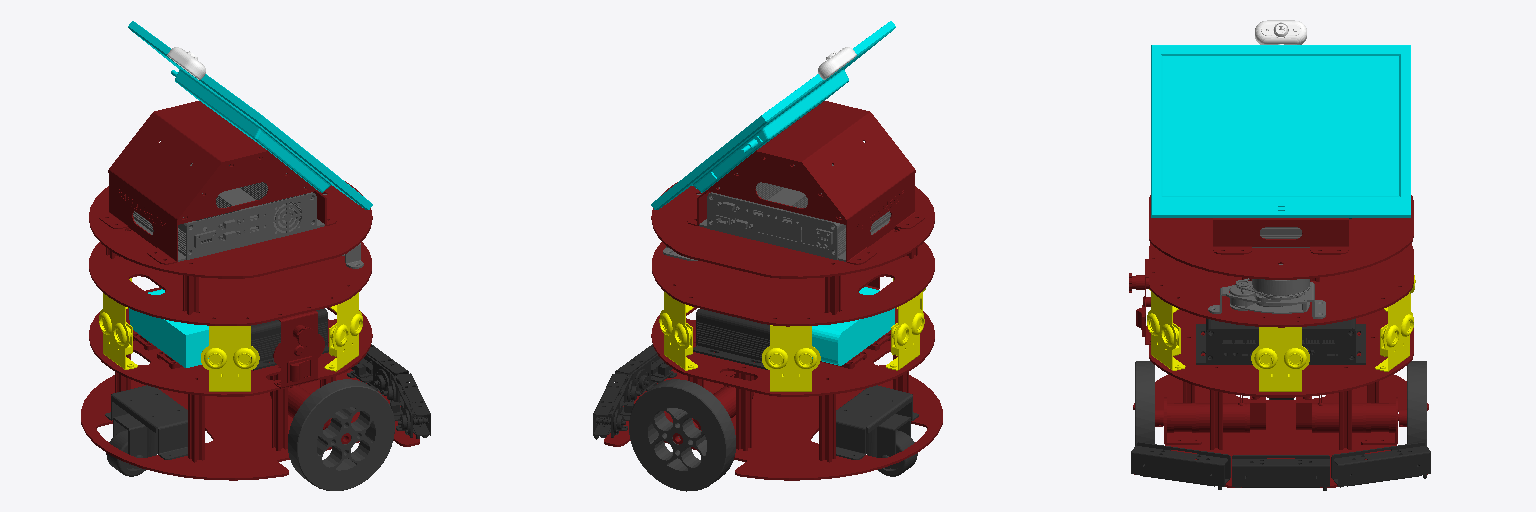
--- Render facts (derived) ---
3 views of the same robot in one strip: view 1: azimuth 30°, elevation 25°; view 2: azimuth 150°, elevation 25°; view 3: azimuth 270°, elevation 25° (orthographic).
Robot: bobac2_description — 24 links, 23 joints (4 continuous, 19 fixed); root link base_footprint; default pose: every joint at zero.
Visible links, largest first — view 1: base_link, right_wheel_Link, IPC_Link, screen_Link, universal_wheel_bracket_Link, ult3_Link, battery_Link, right_crash_Link, ult2_Link, ult4_Link, middle_crash_Link, control_box_Link (+3 smaller); view 2: base_link, left_wheel_Link, IPC_Link, screen_Link, universal_wheel_bracket_Link, control_box_Link, ult5_Link, battery_Link, left_crash_Link, ult6_Link, ult4_Link, middle_crash_Link (+3 smaller); view 3: base_link, screen_Link, control_box_Link, right_crash_Link, left_crash_Link, middle_crash_Link, laser_rada_Link, ult1_Link, ult2_Link, ult6_Link, left_wheel_Link, right_wheel_Link (+2 smaller).
Boxes of the visible links, x1=… form: base_link: x1=81, y1=101, x2=419, y2=480; right_wheel_Link: x1=288, y1=379, x2=394, y2=490; IPC_Link: x1=133, y1=163, x2=324, y2=261; screen_Link: x1=128, y1=21, x2=372, y2=209; universal_wheel_bracket_Link: x1=105, y1=385, x2=187, y2=459; ult3_Link: x1=201, y1=326, x2=259, y2=391; battery_Link: x1=129, y1=289, x2=208, y2=367; right_crash_Link: x1=383, y1=373, x2=430, y2=438; ult2_Link: x1=324, y1=292, x2=362, y2=371; ult4_Link: x1=99, y1=293, x2=137, y2=369; middle_crash_Link: x1=347, y1=344, x2=408, y2=394; control_box_Link: x1=251, y1=308, x2=328, y2=370; base_link: x1=604, y1=101, x2=942, y2=480; left_wheel_Link: x1=629, y1=379, x2=735, y2=491; IPC_Link: x1=699, y1=164, x2=890, y2=261; screen_Link: x1=651, y1=21, x2=895, y2=209; universal_wheel_bracket_Link: x1=836, y1=385, x2=918, y2=459; control_box_Link: x1=693, y1=309, x2=769, y2=369; ult5_Link: x1=762, y1=325, x2=820, y2=391; battery_Link: x1=812, y1=287, x2=894, y2=365; left_crash_Link: x1=593, y1=374, x2=640, y2=439; ult6_Link: x1=659, y1=292, x2=697, y2=370; ult4_Link: x1=886, y1=294, x2=924, y2=370; middle_crash_Link: x1=615, y1=344, x2=676, y2=394; base_link: x1=1129, y1=195, x2=1428, y2=487; screen_Link: x1=1151, y1=45, x2=1410, y2=217; control_box_Link: x1=1196, y1=318, x2=1365, y2=364; right_crash_Link: x1=1131, y1=442, x2=1230, y2=489; left_crash_Link: x1=1331, y1=442, x2=1430, y2=487; middle_crash_Link: x1=1232, y1=455, x2=1329, y2=490; laser_rada_Link: x1=1208, y1=264, x2=1325, y2=318; ult1_Link: x1=1251, y1=327, x2=1309, y2=391; ult2_Link: x1=1147, y1=291, x2=1185, y2=370; ult6_Link: x1=1375, y1=292, x2=1413, y2=371; left_wheel_Link: x1=1407, y1=361, x2=1426, y2=445; right_wheel_Link: x1=1135, y1=361, x2=1154, y2=445.
Bounding box of the posed robot: 0.3913 × 0.3629 × 0.5361 m (x, y, z).
Meshes: 22 distinct files referenced, 21 mesh visuals loaded (21 binary STL); not drawn: 1 (reference not matched to a file when rendering).

URDF robot description (bobac2_description):
<robot
  name="bobac2_description">

  <link name="base_footprint">
    <visual>
      <geometry>
        <box size="0.001 0.001 0.001"/>
     	  </geometry>
	    <origin rpy="0 0 0" xyz="0 0 0.16575"/>
    </visual>
    <inertial>
      <mass value="0.0001" />
        <inertia ixx="1.0E-10" ixy="0.0" ixz="0.0"
                 iyy="1.0E-10" iyz="0.0"
                 izz="1.0E-10" />
        </inertial>
  </link>

  <joint name="base_footprint_joint" type="fixed">
    <origin xyz="0 0 0.16575" />
      <parent link="base_footprint" />
        <child link="base_link" />
  </joint>


  <link
    name="base_link">
    <inertial>
      <origin
        xyz="0.0176984736856291 -0.00244021237194778 0.0154147582080695"
        rpy="0 0 0" />
      <mass
        value="0.001" />
      <inertia
        ixx="0.0334350159358739"
        ixy="-7.36145654595537E-05"
        ixz="0.00399635162520499"
        iyy="0.031161816239251"
        iyz="0.000145992979543746"
        izz="0.0234882250069953" />
    </inertial>
    <visual>
      <origin
        xyz="0 0 0"
        rpy="0 0 0" />
      <geometry>
        <mesh
          filename="package://bobac2_description/meshes/base_link.STL" />
      </geometry>
      <material
        name="">
        <color
          rgba="0.5 0.12 0.13 1" />
      </material>
    </visual>
    <collision>
      <origin
        xyz="0 0 0"
        rpy="0 0 0" />
      <geometry>
        <mesh
          filename="package://bobac2_description/meshes/base_link.STL" />
      </geometry>
    </collision>
  </link>
  <link
    name="left_wheel_Link">
    <inertial>
      <origin
        xyz="0.000187738776794025 2.27799696567166E-05 0.000104915722079227"
        rpy="0 0 0" />
      <mass
        value="10" />
      <inertia
        ixx="0.000373831677394111"
        ixy="1.10646247745684E-09"
        ixz="3.94610908511871E-07"
        iyy="0.00072344628711892"
        iyz="6.18334218221144E-10"
        izz="0.000374260455949215" />
    </inertial>
    <visual>
      <origin
        xyz="0 0 0"
        rpy="0 0 0" />
      <geometry>
        <mesh
          filename="package://bobac2_description/meshes/left_wheel_Link.STL" />
      </geometry>
      <material
        name="">
        <color
          rgba="0.29 0.29 0.29 1" />
      </material>
    </visual>
    <collision>
      <origin
        xyz="0 0 0"
        rpy="0 0 0" />
      <geometry>
        <mesh
          filename="package://bobac2_description/meshes/left_wheel_Link.STL" />
      </geometry>
    </collision>
  </link>
  <joint
    name="left_wheel_Joint"
    type="continuous">
    <origin
      xyz="0.059 0.162869999999998 -0.0809999999999997"
      rpy="-6.12303176911189E-17 0 0" />
    <parent
      link="base_link" />
    <child
      link="left_wheel_Link" />
    <axis
      xyz="0 1 0" />
  </joint>
  <link
    name="right_wheel_Link">
    <inertial>
      <origin
        xyz="0.000104915722079241 -2.27799696567443E-05 0.000187738776793983"
        rpy="0 0 0" />
      <mass
        value="10" />
      <inertia
        ixx="0.000374260455949215"
        ixy="-6.18334218208078E-10"
        ixz="3.94610908512163E-07"
        iyy="0.00072344628711892"
        iyz="-1.10646247743939E-09"
        izz="0.000373831677394111" />
    </inertial>
    <visual>
      <origin
        xyz="0 0 0"
        rpy="0 0 0" />
      <geometry>
        <mesh
          filename="package://bobac2_description/meshes/right_wheel_Link.STL" />
      </geometry>
      <material
        name="">
        <color
          rgba="0.29 0.29 0.29 1" />
      </material>
    </visual>
    <collision>
      <origin
        xyz="0 0 0"
        rpy="0 0 0" />
      <geometry>
        <mesh
          filename="package://bobac2_description/meshes/right_wheel_Link.STL" />
      </geometry>
    </collision>
  </link>
  <joint
    name="right_wheel_Joint"
    type="continuous">
    <origin
      xyz="0.0589999999999999 -0.162870230062147 -0.0809999999999994"
      rpy="-6.12303176911189E-17 0 0" />
    <parent
      link="base_link" />
    <child
      link="right_wheel_Link" />
    <axis
      xyz="0 1 0" />
  </joint>
  <link
    name="ult1_Link">
    <inertial>
      <origin
        xyz="-0.00414742898874126 6.82855136189154E-06 -0.00438502040194252"
        rpy="0 0 0" />
      <mass
        value="0.001" />
      <inertia
        ixx="1.77535070730389E-05"
        ixy="1.09142764249358E-09"
        ixz="-2.19926889304616E-07"
        iyy="1.13252586353444E-05"
        iyz="-7.32159566906318E-10"
        izz="7.51538320265679E-06" />
    </inertial>
    <visual>
      <origin
        xyz="0 0 0"
        rpy="0 0 0" />
      <geometry>
        <mesh
          filename="package://bobac2_description/meshes/ult1_Link.STL" />
      </geometry>
      <material
        name="">
        <color
          rgba="1 1 0 1" />
      </material>
    </visual>
    <collision>
      <origin
        xyz="0 0 0"
        rpy="0 0 0" />
      <geometry>
        <mesh
          filename="package://bobac2_description/meshes/ult1_Link.STL" />
      </geometry>
    </collision>
  </link>
  <joint
    name="ult1_Joint"
    type="fixed">
    <origin
      xyz="0.161036475920901 -0.00055454043235868 0.0450000000000007"
      rpy="-6.12303176911189E-17 0 0" />
    <parent
      link="base_link" />
    <child
      link="ult1_Link" />
    <axis
      xyz="0 0 0" />
  </joint>
  <link
    name="ult2_Link">
    <inertial>
      <origin
        xyz="-0.00414742898874126 6.82855136185934E-06 -0.00438502040194252"
        rpy="0 0 0" />
      <mass
        value="0.001" />
      <inertia
        ixx="1.77535070730389E-05"
        ixy="1.09142764249631E-09"
        ixz="-2.19926889304611E-07"
        iyy="1.13252586353444E-05"
        iyz="-7.32159566909851E-10"
        izz="7.51538320265679E-06" />
    </inertial>
    <visual>
      <origin
        xyz="0 0 0"
        rpy="0 0 0" />
      <geometry>
        <mesh
          filename="package://bobac2_description/meshes/ult2_Link.STL" />
      </geometry>
      <material
        name="">
        <color
          rgba="1 1 0 1" />
      </material>
    </visual>
    <collision>
      <origin
        xyz="0 0 0"
        rpy="0 0 0" />
      <geometry>
        <mesh
          filename="package://bobac2_description/meshes/ult2_Link.STL" />
      </geometry>
    </collision>
  </link>
  <joint
    name="ult2_Joint"
    type="fixed">
    <origin
      xyz="0.0796102415563129 -0.143139258755043 0.0450000000000008"
      rpy="-3.06151588455595E-17 -5.30270106023007E-17 -1.0471975511966" />
    <parent
      link="base_link" />
    <child
      link="ult2_Link" />
    <axis
      xyz="0 0 0" />
  </joint>
  <link
    name="ult3_Link">
    <inertial>
      <origin
        xyz="-0.00414742898874132 6.82855136184546E-06 -0.00438502040194253"
        rpy="0 0 0" />
      <mass
        value="0.001" />
      <inertia
        ixx="1.77535070730388E-05"
        ixy="1.09142764249377E-09"
        ixz="-2.19926889304615E-07"
        iyy="1.13252586353444E-05"
        iyz="-7.32159566904385E-10"
        izz="7.51538320265676E-06" />
    </inertial>
    <visual>
      <origin
        xyz="0 0 0"
        rpy="0 0 0" />
      <geometry>
        <mesh
          filename="package://bobac2_description/meshes/ult3_Link.STL" />
      </geometry>
      <material
        name="">
        <color
          rgba="1 1 0 1" />
      </material>
    </visual>
    <collision>
      <origin
        xyz="0 0 0"
        rpy="0 0 0" />
      <geometry>
        <mesh
          filename="package://bobac2_description/meshes/ult3_Link.STL" />
      </geometry>
    </collision>
  </link>
  <joint
    name="ult3_Joint"
    type="fixed">
    <origin
      xyz="-0.0825156701834676 -0.141461808755045 0.0450000000000007"
      rpy="3.06151588455591E-17 -5.30270106023009E-17 -2.09439510239319" />
    <parent
      link="base_link" />
    <child
      link="ult3_Link" />
    <axis
      xyz="0 0 0" />
  </joint>
  <link
    name="ult4_Link">
    <inertial>
      <origin
        xyz="-0.00414742898874126 6.82855136188807E-06 -0.00438502040194251"
        rpy="0 0 0" />
      <mass
        value="0.001" />
      <inertia
        ixx="1.77535070730389E-05"
        ixy="1.0914276424907E-09"
        ixz="-2.19926889304616E-07"
        iyy="1.13252586353444E-05"
        iyz="-7.32159566912778E-10"
        izz="7.51538320265679E-06" />
    </inertial>
    <visual>
      <origin
        xyz="0 0 0"
        rpy="0 0 0" />
      <geometry>
        <mesh
          filename="package://bobac2_description/meshes/ult4_Link.STL" />
      </geometry>
      <material
        name="">
        <color
          rgba="1 1 0 1" />
      </material>
    </visual>
    <collision>
      <origin
        xyz="0 0 0"
        rpy="0 0 0" />
      <geometry>
        <mesh
          filename="package://bobac2_description/meshes/ult4_Link.STL" />
      </geometry>
    </collision>
  </link>
  <joint
    name="ult4_Joint"
    type="fixed">
    <origin
      xyz="-0.160937935521329 0.00056375956763879 0.0450000000000008"
      rpy="6.12303176911189E-17 0 3.14159265358979" />
    <parent
      link="base_link" />
    <child
      link="ult4_Link" />
    <axis
      xyz="0 0 0" />
  </joint>
  <link
    name="ult5_Link">
    <inertial>
      <origin
        xyz="-0.00414742898874129 6.82855136185934E-06 -0.00438502040194252"
        rpy="0 0 0" />
      <mass
        value="0.001" />
      <inertia
        ixx="1.77535070730389E-05"
        ixy="1.09142764249716E-09"
        ixz="-2.19926889304613E-07"
        iyy="1.13252586353444E-05"
        iyz="-7.32159566911823E-10"
        izz="7.51538320265677E-06" />
    </inertial>
    <visual>
      <origin
        xyz="0 0 0"
        rpy="0 0 0" />
      <geometry>
        <mesh
          filename="package://bobac2_description/meshes/ult5_Link.STL" />
      </geometry>
      <material
        name="">
        <color
          rgba="1 1 0 1" />
      </material>
    </visual>
    <collision>
      <origin
        xyz="0 0 0"
        rpy="0 0 0" />
      <geometry>
        <mesh
          filename="package://bobac2_description/meshes/ult5_Link.STL" />
      </geometry>
    </collision>
  </link>
  <joint
    name="ult5_Joint"
    type="fixed">
    <origin
      xyz="-0.0796102415563151 0.143139258755043 0.0450000000000007"
      rpy="3.06151588455595E-17 5.30270106023006E-17 2.0943951023932" />
    <parent
      link="base_link" />
    <child
      link="ult5_Link" />
    <axis
      xyz="0 0 0" />
  </joint>
  <link
    name="ult6_Link">
    <inertial>
      <origin
        xyz="-0.00414742898874126 6.82855136187321E-06 -0.00438502040194252"
        rpy="0 0 0" />
      <mass
        value="0.001" />
      <inertia
        ixx="1.77535070730389E-05"
        ixy="1.0914276424908E-09"
        ixz="-2.19926889304616E-07"
        iyy="1.13252586353444E-05"
        iyz="-7.321595669078E-10"
        izz="7.51538320265678E-06" />
    </inertial>
    <visual>
      <origin
        xyz="0 0 0"
        rpy="0 0 0" />
      <geometry>
        <mesh
          filename="package://bobac2_description/meshes/ult6_Link.STL" />
      </geometry>
      <material
        name="">
        <color
          rgba="1 1 0 1" />
      </material>
    </visual>
    <collision>
      <origin
        xyz="0 0 0"
        rpy="0 0 0" />
      <geometry>
        <mesh
          filename="package://bobac2_description/meshes/ult6_Link.STL" />
      </geometry>
    </collision>
  </link>
  <joint
    name="ult6_Joint"
    type="fixed">
    <origin
      xyz="0.082515670183469 0.141461808755047 0.0450000000000007"
      rpy="-3.06151588455591E-17 5.30270106023009E-17 1.0471975511966" />
    <parent
      link="base_link" />
    <child
      link="ult6_Link" />
    <axis
      xyz="0 0 0" />
  </joint>
  <link
    name="screen_Link">
    <inertial>
      <origin
        xyz="-0.00930826314117272 0.000220505445777179 -0.00733047519436178"
        rpy="0 0 0" />
      <mass
        value="0.001" />
      <inertia
        ixx="0.00996841164107054"
        ixy="1.82016646767447E-06"
        ixz="-4.85112975934549E-05"
        iyy="0.00339958653515132"
        iyz="-4.56066805391674E-06"
        izz="0.00667917473822529" />
    </inertial>
    <visual>
      <origin
        xyz="0 0 0"
        rpy="0 0 0" />
      <geometry>
        <mesh
          filename="package://bobac2_description/meshes/screen_Link.STL" />
      </geometry>
      <material
        name="">
        <color
          rgba="0 0.92 0.94 1" />
      </material>
    </visual>
    <collision>
      <origin
        xyz="0 0 0"
        rpy="0 0 0" />
      <geometry>
        <mesh
          filename="package://bobac2_description/meshes/screen_Link.STL" />
      </geometry>
    </collision>
  </link>
  <joint
    name="screen_Joint"
    type="fixed">
    <origin
      xyz="0.0295730580787732 0 0.28512473814545"
      rpy="-8.65927457071926E-17 -0.785398163397438 6.12303176911176E-17" />
    <parent
      link="base_link" />
    <child
      link="screen_Link" />
    <axis
      xyz="0 0 0" />
  </joint>
  <link
    name="monocular_camera_Link">
    <inertial>
      <origin
        xyz="0.00117676930382202 -0.000116627151779461 -0.000140554036882512"
        rpy="0 0 0" />
      <mass
        value="0.001" />
      <inertia
        ixx="9.02372585847254E-06"
        ixy="-1.26364197897344E-09"
        ixz="-1.08147027028177E-08"
        iyy="2.37546671460094E-06"
        iyz="-3.41212699045368E-11"
        izz="7.94280946232793E-06" />
    </inertial>
    <visual>
      <origin
        xyz="0 0 0"
        rpy="0 0 0" />
      <geometry>
        <mesh
          filename="package://bobac2_description/meshes/monocular_camera_Link.STL" />
      </geometry>
      <material
        name="">
        <color
          rgba="1 1 1 1" />
      </material>
    </visual>
    <collision>
      <origin
        xyz="0 0 0"
        rpy="0 0 0" />
      <geometry>
        <mesh
          filename="package://bobac2_description/meshes/monocular_camera_Link.STL" />
      </geometry>
    </collision>
  </link>
  <joint
    name="monocular_camera_Joint"
    type="fixed">
    <origin
      xyz="-0.0020000000000002 0 0.125246207448554"
      rpy="0 0 0" />
    <parent
      link="screen_Link" />
    <child
      link="monocular_camera_Link" />
    <axis
      xyz="0 0 0" />
  </joint>
  <link
    name="universal_wheel_bracket_Link">
    <inertial>
      <origin
        xyz="4.9559662974083E-05 5.58346683326216E-16 -0.00925390687826176"
        rpy="0 0 0" />
      <mass
        value="0.001" />
      <inertia
        ixx="6.45362207207313E-05"
        ixy="-2.54975856993725E-20"
        ixz="-8.40084689509949E-09"
        iyy="1.55168712535187E-05"
        iyz="2.33328438560862E-20"
        izz="6.96230827425124E-05" />
    </inertial>
    <visual>
      <origin
        xyz="0 0 0"
        rpy="0 0 0" />
      <geometry>
        <mesh
          filename="package://bobac2_description/meshes/universal_wheel_bracket_Link.STL" />
      </geometry>
      <material
        name="">
        <color
          rgba="0.25 0.25 0.25 1" />
      </material>
    </visual>
    <collision>
      <origin
        xyz="0 0 0"
        rpy="0 0 0" />
      <geometry>
        <mesh
          filename="package://bobac2_description/meshes/universal_wheel_bracket_Link.STL" />
      </geometry>
    </collision>
  </link>
  <joint
    name="universal_wheel_bracket_Joint"
    type="fixed">
    <origin
      xyz="-0.104950963170751 0 -0.0694999999999998"
      rpy="-6.12303176911189E-17 0 0" />
    <parent
      link="base_link" />
    <child
      link="universal_wheel_bracket_Link" />
    <axis
      xyz="0 0 0" />
  </joint>
  <link
    name="child_universal_wheel_bracket_Link">
    <inertial>
      <origin
        xyz="-0.0132106058472552 -3.12590106175973E-08 -0.0199503271526001"
        rpy="0 0 0" />
      <mass
        value="0.001" />
      <inertia
        ixx="1.48172435673607E-05"
        ixy="-1.29473901657123E-10"
        ixz="-3.84330817853662E-06"
        iyy="1.64859919560355E-05"
        iyz="-1.5248194928995E-10"
        izz="1.58433370547712E-05" />
    </inertial>
    <visual>
      <origin
        xyz="0 0 0"
        rpy="0 0 0" />
      <geometry>
        <mesh
          filename="package://bobac2_description/meshes/child_universal_wheel_bracket_Link.STL" />
      </geometry>
      <material
        name="">
        <color
          rgba="0.25 0.25 0.25 1" />
      </material>
    </visual>
    <collision>
      <origin
        xyz="0 0 0"
        rpy="0 0 0" />
      <geometry>
        <mesh
          filename="package://bobac2_description/meshes/child_universal_wheel_bracket_Link.STL" />
      </geometry>
    </collision>
  </link>
  <joint
    name="child_universal_wheel_bracket_joint"
    type="continuous">
    <origin
      xyz="-0.00249999999999975 0 -0.00499999999999662"
      rpy="0 0 0" />
    <parent
      link="universal_wheel_bracket_Link" />
    <child
      link="child_universal_wheel_bracket_Link" />
    <axis
      xyz="0 0 1" />
  </joint>
  <link
    name="universal_wheel_Link">
    <inertial>
      <origin
        xyz="0 -4.94237839882406E-17 1.38777878078145E-17"
        rpy="0 0 0" />
      <mass
        value="10" />
      <inertia
        ixx="1.08698483532136E-05"
        ixy="4.27928103560766E-22"
        ixz="-3.84694130211328E-22"
        iyy="1.60607435321959E-05"
        iyz="1.07643770380234E-22"
        izz="1.08698483532136E-05" />
    </inertial>
    <visual>
      <origin
        xyz="0 0 0"
        rpy="0 0 0" />
      <geometry>
        <mesh
          filename="package://bobac2_description/meshes/universal_wheel_Link.STL" />
      </geometry>
      <material
        name="">
        <color
          rgba="0.25 0.25 0.25 1" />
      </material>
    </visual>
    <collision>
      <origin
        xyz="0 0 0"
        rpy="0 0 0" />
      <geometry>
        <mesh
          filename="package://bobac2_description/meshes/universal_wheel_Link.STL" />
      </geometry>
    </collision>
  </link>
  <joint
    name="universal_wheel_joint"
    type="continuous">
    <origin
      xyz="-0.032 0 -0.05"
      rpy="0 0 0" />
    <parent
      link="child_universal_wheel_bracket_Link" />
    <child
      link="universal_wheel_Link" />
    <axis
      xyz="0 1 0" />
  </joint>
  <link
    name="battery_Link">
    <inertial>
      <origin
        xyz="-1.09268285031217E-07 0.00452506786560223 0.0219985739875884"
        rpy="0 0 0" />
      <mass
        value="0.001" />
      <inertia
        ixx="0.000410684216749952"
        ixy="-3.19547301330829E-11"
        ixz="5.81742352235315E-10"
        iyy="7.59397052758553E-05"
        iyz="-4.92787405480774E-10"
        izz="0.000407561530163945" />
    </inertial>
    <visual>
      <origin
        xyz="0 0 0"
        rpy="0 0 0" />
      <geometry>
        <mesh
          filename="package://bobac2_description/meshes/battery_Link.STL" />
      </geometry>
      <material
        name="">
        <color
          rgba="0 1 1 1" />
      </material>
    </visual>
    <collision>
      <origin
        xyz="0 0 0"
        rpy="0 0 0" />
      <geometry>
        <mesh
          filename="package://bobac2_description/meshes/battery_Link.STL" />
      </geometry>
    </collision>
  </link>
  <joint
    name="battery_Joint"
    type="fixed">
    <origin
      xyz="-0.0799999999999998 -0.00499999999999998 0.00600000000000001"
      rpy="2.55058561077215E-17 0 0" />
    <parent
      link="base_link" />
    <child
      link="battery_Link" />
    <axis
      xyz="0 0 0" />
  </joint>
  <link
    name="control_box_Link">
    <inertial>
      <origin
        xyz="0.000466671753558114 -0.00187600713548944 0.0214668133438353"
        rpy="0 0 0" />
      <mass
        value="0.001" />
      <inertia
        ixx="0.000967386431724335"
        ixy="-5.01401566012094E-06"
        ixz="1.34136901811671E-06"
        iyy="0.000396896468708599"
        iyz="-1.65897536172501E-06"
        izz="0.00121761043099071" />
    </inertial>
    <visual>
      <origin
        xyz="0 0 0"
        rpy="0 0 0" />
      <geometry>
        <mesh
          filename="package://bobac2_description/meshes/control_box_Link.STL" />
      </geometry>
      <material
        name="">
        <color
          rgba="0.22 0.22 0.22 1" />
      </material>
    </visual>
    <collision>
      <origin
        xyz="0 0 0"
        rpy="0 0 0" />
      <geometry>
        <mesh
          filename="package://bobac2_description/meshes/control_box_Link.STL" />
      </geometry>
    </collision>
  </link>
  <joint
    name="control_box_Joint"
    type="fixed">
    <origin
      xyz="0.0272000000000001 0 0"
      rpy="0 0 0" />
    <parent
      link="base_link" />
    <child
      link="control_box_Link" />
    <axis
      xyz="0 0 0" />
  </joint>
  <link
    name="right_crash_Link">
    <inertial>
      <origin
        xyz="-0.00940575041859917 5.3136755827507E-05 0.0133604261588702"
        rpy="0 0 0" />
      <mass
        value="0.001" />
      <inertia
        ixx="4.0319274598631E-05"
        ixy="-6.92314498918265E-08"
        ixz="1.64909317522797E-07"
        iyy="6.17820313705541E-06"
        iyz="-1.06794696112137E-09"
        izz="4.0996557992296E-05" />
    </inertial>
    <visual>
      <origin
        xyz="0 0 0"
        rpy="0 0 0" />
      <geometry>
        <mesh
          filename="package://bobac2_description/meshes/right_crash_Link.STL" />
      </geometry>
      <material
        name="">
        <color
          rgba="0.22 0.22 0.22 1" />
      </material>
    </visual>
    <collision>
      <origin
        xyz="0 0 0"
        rpy="0 0 0" />
      <geometry>
        <mesh
          filename="package://bobac2_description/meshes/right_crash_Link.STL" />
      </geometry>
    </collision>
  </link>
  <joint
    name="right_crash_Joint"
    type="fixed">
    <origin
      xyz="0.18405256283718 -0.121438087455977 -0.10375"
      rpy="1.32969939710013E-15 -1.93890947636415E-17 -0.322204522551786" />
    <parent
      link="base_link" />
    <child
      link="right_crash_Link" />
    <axis
      xyz="0 0 0" />
  </joint>
  <link
    name="middle_crash_Link">
    <inertial>
      <origin
        xyz="-0.00877405027298528 5.31356895990319E-05 0.0133604261661488"
        rpy="0 0 0" />
      <mass
        value="0.001" />
      <inertia
        ixx="4.03192755743805E-05"
        ixy="-6.92311727907039E-08"
        ixz="1.64909306987852E-07"
        iyy="6.17820318486115E-06"
        iyz="-1.068267577979E-09"
        izz="4.09965589654731E-05" />
    </inertial>
    <visual>
      <origin
        xyz="0 0 0"
        rpy="0 0 0" />
      <geometry>
        <mesh
          filename="package://bobac2_description/meshes/middle_crash_Link.STL" />
      </geometry>
      <material
        name="">
        <color
          rgba="0.22 0.22 0.22 1" />
      </material>
    </visual>
    <collision>
      <origin
        xyz="0 0 0"
        rpy="0 0 0" />
      <geometry>
        <mesh
          filename="package://bobac2_description/meshes/middle_crash_Link.STL" />
      </geometry>
    </collision>
  </link>
  <joint
    name="middle_crash_Joint"
    type="fixed">
    <origin
      xyz="0.2026764990859 0 -0.103749999999999"
      rpy="-6.12303176911189E-17 0 0" />
    <parent
      link="base_link" />
    <child
      link="middle_crash_Link" />
    <axis
      xyz="0 0 0" />
  </joint>
  <link
    name="left_crash_Link">
    <inertial>
      <origin
        xyz="-0.00877405047744156 5.31367290457566E-05 0.0133604246678139"
        rpy="0 0 0" />
      <mass
        value="0.001" />
      <inertia
        ixx="4.03192742314575E-05"
        ixy="-6.92310561056219E-08"
        ixz="1.64909671516585E-07"
        iyy="6.1782030254675E-06"
        iyz="-1.06903758342361E-09"
        izz="4.09965577124893E-05" />
    </inertial>
    <visual>
      <origin
        xyz="0 0 0"
        rpy="0 0 0" />
      <geometry>
        <mesh
          filename="package://bobac2_description/meshes/left_crash_Link.STL" />
      </geometry>
      <material
        name="">
        <color
          rgba="0.22 0.22 0.22 1" />
      </material>
    </visual>
    <collision>
      <origin
        xyz="0 0 0"
        rpy="0 0 0" />
      <geometry>
        <mesh
          filename="package://bobac2_description/meshes/left_crash_Link.STL" />
      </geometry>
    </collision>
  </link>
  <joint
    name="left_crash_Joint"
    type="fixed">
    <origin
      xyz="0.183453370344719 0.121238054341272 -0.10375"
      rpy="-1.44585816446276E-15 1.93890947636384E-17 0.322204522551786" />
    <parent
      link="base_link" />
    <child
      link="left_crash_Link" />
    <axis
      xyz="0 0 0" />
  </joint>
  <link
    name="laser_rada_Link">
    <inertial>
      <origin
        xyz="-0.0012818819976308 -0.0122449902033269 -0.00613231546155353"
        rpy="0 0 0" />
      <mass
        value="0.001" />
      <inertia
        ixx="7.6605683108143E-05"
        ixy="7.14939668229038E-07"
        ixz="3.31673498855811E-07"
        iyy="3.04852995847407E-05"
        iyz="-3.84817330122851E-06"
        izz="8.15868272923475E-05" />
    </inertial>
    <visual>
      <origin
        xyz="0 0 0"
        rpy="0 0 0" />
      <geometry>
        <mesh
          filename="package://bobac2_description/meshes/laser_rada_Link.STL" />
      </geometry>
      <material
        name="">
        <color
          rgba="0.44 0.44 0.44 1" />
      </material>
    </visual>
    <collision>
      <origin
        xyz="0 0 0"
        rpy="0 0 0" />
      <geometry>
        <mesh
          filename="package://bobac2_description/meshes/laser_rada_Link.STL" />
      </geometry>
    </collision>
  </link>
  <joint
    name="laser_rada_Joint"
    type="fixed">
    <origin
      xyz="0.127773333991041 0 0.1245"
      rpy="-6.12303176911189E-17 0 0" />
    <parent
      link="base_link" />
    <child
      link="laser_rada_Link" />
    <axis
      xyz="0 0 0" />
  </joint>
  <link
    name="IPC_Link">
    <inertial>
      <origin
        xyz="-0.00126992540490819 0.00575544825604982 0.0229245531730232"
        rpy="0 0 0" />
      <mass
        value="0.001" />
      <inertia
        ixx="0.00106944227971094"
        ixy="-7.30820255866916E-06"
        ixz="-1.97040677960135E-07"
        iyy="0.00128515292313222"
        iyz="9.60373060734083E-07"
        izz="0.00213547602056351" />
    </inertial>
    <visual>
      <origin
        xyz="0 0 0"
        rpy="0 0 0" />
      <geometry>
        <mesh
          filename="package://bobac2_description/meshes/IPC_Link.STL" />
      </geometry>
      <material
        name="">
        <color
          rgba="0.41 0.41 0.41 1" />
      </material>
    </visual>
    <collision>
      <origin
        xyz="0 0 0"
        rpy="0 0 0" />
      <geometry>
        <mesh
          filename="package://bobac2_description/meshes/IPC_Link.STL" />
      </geometry>
    </collision>
  </link>
  <joint
    name="IPC_Joint"
    type="fixed">
    <origin
      xyz="-0.0178799999999996 0 0.156"
      rpy="-6.12303176911189E-17 0 0" />
    <parent
      link="base_link" />
    <child
      link="IPC_Link" />
    <axis
      xyz="0 0 0" />
  </joint>
  <link
    name="depth_camera_Link">
    <inertial>
      <origin
        xyz="-0.000552028989647596 -0.000792460603700161 0.023455188645832"
        rpy="0 0 0" />
      <mass
        value="0.001" />
      <inertia
        ixx="0.000165355922469739"
        ixy="5.92527091830771E-07"
        ixz="-5.54661721149495E-06"
        iyy="4.36024741012988E-05"
        iyz="7.34778246601573E-07"
        izz="0.000165125170038346" />
    </inertial>
    <visual>
      <origin
        xyz="0 0 0"
        rpy="0 0 0" />
      <geometry>
        <mesh
          filename="package://bobac2_description/meshes/depth_camera_Link.STL" />
      </geometry>
      <material
        name="">
        <color
          rgba="0.22 0.22 0.22 1" />
      </material>
    </visual>
    <collision>
      <origin
        xyz="0 0 0"
        rpy="0 0 0" />
      <geometry>
        <mesh
          filename="package://bobac2_description/meshes/depth_camera_Link.STL" />
      </geometry>
    </collision>
  </link>
  <joint
    name="depth_camera_Joint"
    type="fixed">
    <origin
      xyz="0.130000000000001 0 0.156"
      rpy="-6.12303176911189E-17 0 0" />
    <parent
      link="base_link" />
    <child
      link="depth_camera_Link" />
    <axis
      xyz="0 0 0" />
  </joint>


  <link name="kinect_frame_optical"/>

  <joint name="kinect_optical_joint" type="fixed">
     <origin xyz="0 0 0.29" rpy="-1.5708 0 -1.5708"/>
     <parent link="depth_camera_Link"/>
      <child link="kinect_frame_optical"/>
  </joint>




<gazebo reference="base_link">
	<material>Gazebo/Red</material>
</gazebo>

<gazebo reference="ult1_Link">
	<material>Gazebo/Yellow</material>
</gazebo>

<gazebo reference="ult2_Link">
	<material>Gazebo/Yellow</material>
</gazebo>

<gazebo reference="ult3_Link">
	<material>Gazebo/Yellow</material>
</gazebo>

<gazebo reference="ult4_Link">
	<material>Gazebo/Yellow</material>
</gazebo>

<gazebo reference="ult5_Link">
	<material>Gazebo/Yellow</material>
</gazebo>

<gazebo reference="ult6_Link">
	<material>Gazebo/Yellow</material>
</gazebo>

<gazebo reference="left_wheel_Link">
	<material>Gazebo/Black</material>
</gazebo>

<gazebo reference="right_crash_Link">
	<material>Gazebo/Black</material>
</gazebo>

<gazebo reference="middle_crash_Link">
	<material>Gazebo/Black</material>
</gazebo>

<gazebo reference="left_crash_Link">
	<material>Gazebo/Black</material>
</gazebo>

<gazebo reference="right_wheel_Link">
	<material>Gazebo/Black</material>
</gazebo>

<gazebo reference="screen_Link">
	<material>Gazebo/Blue</material>
</gazebo>

<gazebo reference="control_box_Link">
	<material>Gazebo/Black</material>
</gazebo>

<gazebo reference="laser_rada_Link">
	<material>Gazebo/Grey</material>
</gazebo>

<gazebo reference="battery_Link">
	<material>Gazebo/Blue</material>
</gazebo>

<gazebo reference="IPC_Link">
	<material>Gazebo/Blue</material>
</gazebo>

<gazebo reference="depth_camera_Link">
	<material>Gazebo/Black</material>
</gazebo>

<gazebo reference="universal_wheel_bracket_Link">
	<material>Gazebo/Black</material>
</gazebo>

<gazebo reference="child_universal_wheel_bracket_Link">
	<material>Gazebo/Black</material>
</gazebo>

<gazebo reference="universal_wheel_Link">
	<material>Gazebo/Black</material>
</gazebo>

<gazebo reference="monocular_camera_Link">
	<material>Gazebo/white</material>
</gazebo>




<gazebo reference="base_footprint">
	<material>Gazebo/Green</material>
	<turnGravityOff>false</turnGravityOff>
</gazebo>

<!--transmission name="left_wheel_trans">
	<type>transmission_interface/SimpleTransmission</type>
	<joint name="left_wheel_Link">
		<hardwareInterface>hardware_interface/VelocityJointInterface</hardwareInterface>
	</joint>
	<actuator name="left_wheel_motor">
                <hardwareInterface>hardware_interface/VelocityJointInterface</hardwareInterface>
                <mechanicalReduction>1</mechanicalReduction>
        </actuator>
</transmission>

<transmission name="right_wheel_trans">
	<type>transmission_interface/SimpleTransmission</type>
	<joint name="right_wheel_Link">
		<hardwareInterface>hardware_interface/VelocityJointInterface</hardwareInterface>
	</joint>
	<actuator name="right_wheel_motor">
                <hardwareInterface>hardware_interface/VelocityJointInterface</hardwareInterface>
                <mechanicalReduction>1</mechanicalReduction>
        </actuator>
</transmission-->

  <gazebo>
    <plugin name="gazebo_ros_control" filename="libgazebo_ros_control.so">
      <robotNamespace>/bobac2</robotNamespace>
    </plugin>
  </gazebo>

<gazebo>
    <plugin name="differential_drive_controller"  filename="libgazebo_ros_diff_drive.so">
        <robotNamespace>/</robotNamespace>
        <alwaysOn>true</alwaysOn>
        <updateRate>50.0</updateRate>
        <legacyMode>true</legacyMode>
        <leftJoint>right_wheel_Joint</leftJoint>
        <rightJoint>left_wheel_Joint</rightJoint>
        <wheelSeparation>0.325</wheelSeparation>
        <wheelDiameter>0.136</wheelDiameter>
   
        <wheelTorque>2000</wheelTorque>
        <wheelAcceleration>5</wheelAcceleration>
        <commandTopic>cmd_vel</commandTopic>
        <odometryFrame>odom</odometryFrame>
        <odometryTopic>odom</odometryTopic>
        <robotBaseFrame>base_footprint</robotBaseFrame>
    </plugin>
</gazebo>

 <gazebo reference="laser_rada_Link">
    <sensor type="ray" name="rplidar_sensor">
      <pose>0 0 0 0 0 0</pose>
      <visualize>false</visualize>
      <update_rate>10</update_rate>
      <ray>
        <scan>
          <horizontal>
            <samples>720</samples>
            <resolution>1</resolution>
            <min_angle>-1.570796</min_angle>
            <max_angle>1.570796</max_angle>
          </horizontal>
        </scan>
        <range>
          <min>0.10</min>
          <max>30.0</max>
          <resolution>0.01</resolution>
        </range>
        <noise>
          <type>gaussian</type>
          <!-- Noise parameters based on published spec for Hokuyo laser
               achieving "+-30mm" accuracy at range < 10m.  A mean of 0.0m and
               stddev of 0.01m will put 99.7% of samples within 0.03m of the true
               reading. -->
          <mean>0.0</mean>
          <stddev>0.01</stddev>
        </noise>
      </ray>
      <plugin name="gazebo_ros_head_hokuyo_controller" filename="libgazebo_ros_laser.so">
        <topicName>/scan</topicName>
        <frameName>laser_rada_Link</frameName>
      </plugin>
    </sensor>
  </gazebo>

    <gazebo reference="depth_camera_Link">  
      <sensor type="depth" name="kinect_camera">
        <always_on>true</always_on>
        <update_rate>20.0</update_rate>
        <camera>
          <horizontal_fov>1.0472</horizontal_fov>
          <image>
            <format>R8G8B8</format>
            <width>640</width>
            <height>480</height>
          </image>
          <clip>
            <near>0.05</near>
            <far>8.0</far>
          </clip>
        </camera>
        <plugin name="kinect_camera_controller" filename="libgazebo_ros_openni_kinect.so">
          <cameraName>kinect_camera</cameraName>
          <alwaysOn>true</alwaysOn>
          <updateRate>10</updateRate>
          <imageTopicName>rgb/image_raw</imageTopicName>
          <depthImageTopicName>depth/image_raw</depthImageTopicName>
          <pointCloudTopicName>depth/points</pointCloudTopicName>
          <cameraInfoTopicName>rgb/camera_info</cameraInfoTopicName>
          <depthImageCameraInfoTopicName>depth/camera_info</depthImageCameraInfoTopicName>
          <frameName>kinect_frame_optical</frameName>
          <baseline>0.1</baseline>
          <distortion_k1>0.0</distortion_k1>
          <distortion_k2>0.0</distortion_k2>
          <distortion_k3>0.0</distortion_k3>
          <distortion_t1>0.0</distortion_t1>
          <distortion_t2>0.0</distortion_t2>
          <pointCloudCutoff>0.4</pointCloudCutoff>
        </plugin>
      </sensor>
    </gazebo>

</robot>
